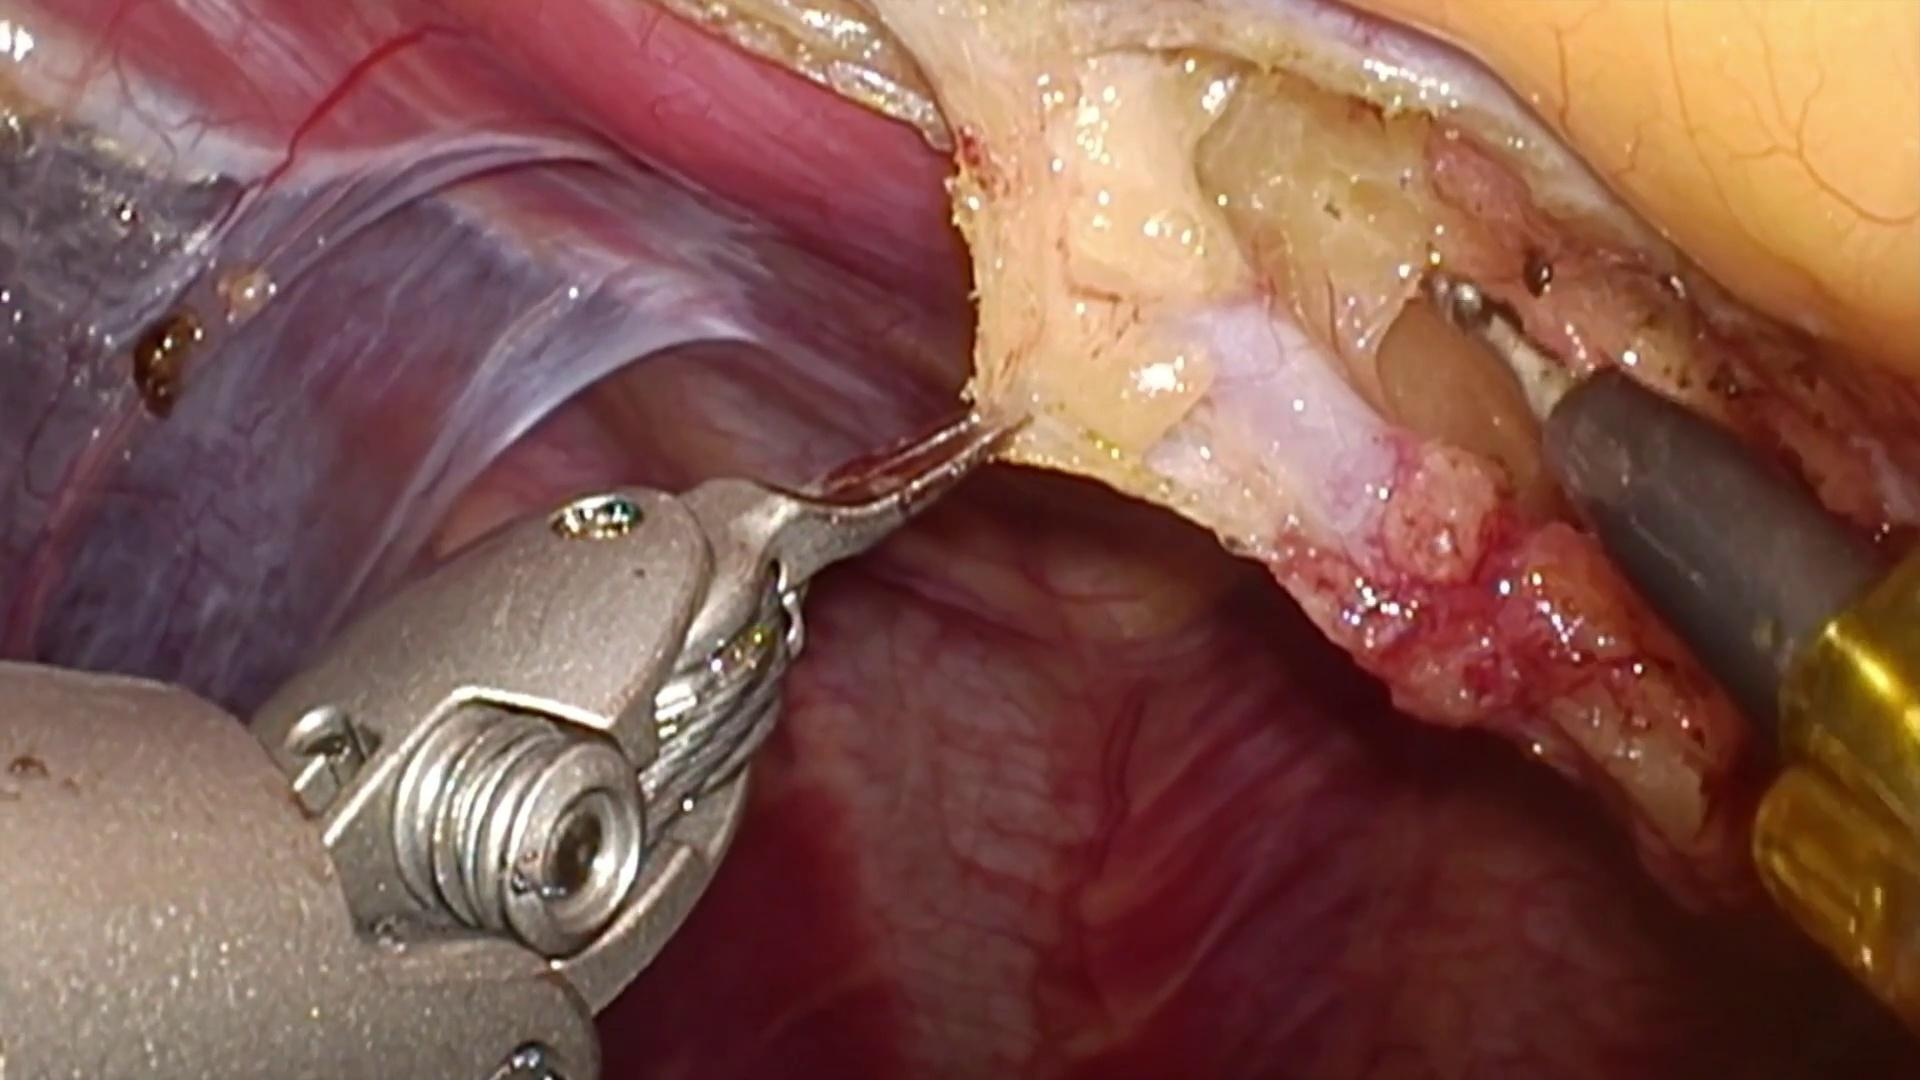Cautery_Spatula: (1428, 260, 1920, 749)
Debakey: (684, 401, 1044, 580)
